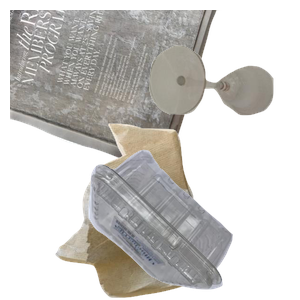glass: (147, 43, 300, 151)
paper: (10, 10, 222, 176)
plastic: (86, 147, 300, 300)
trash: (53, 121, 239, 300)
